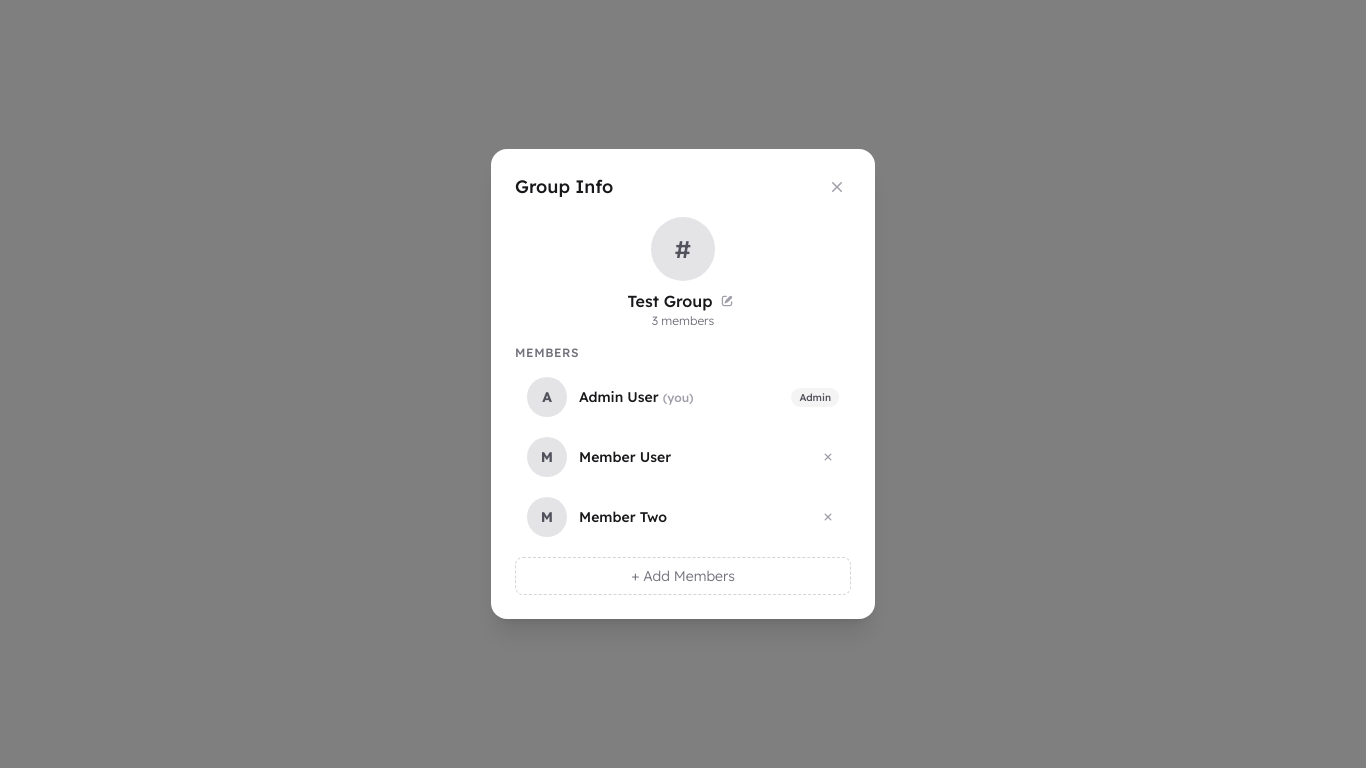
Test case: GroupChatSettings › cancels name editing
Click the button named "Edit group name" at (728, 301), box x1=716 y1=290 x2=738 y2=312
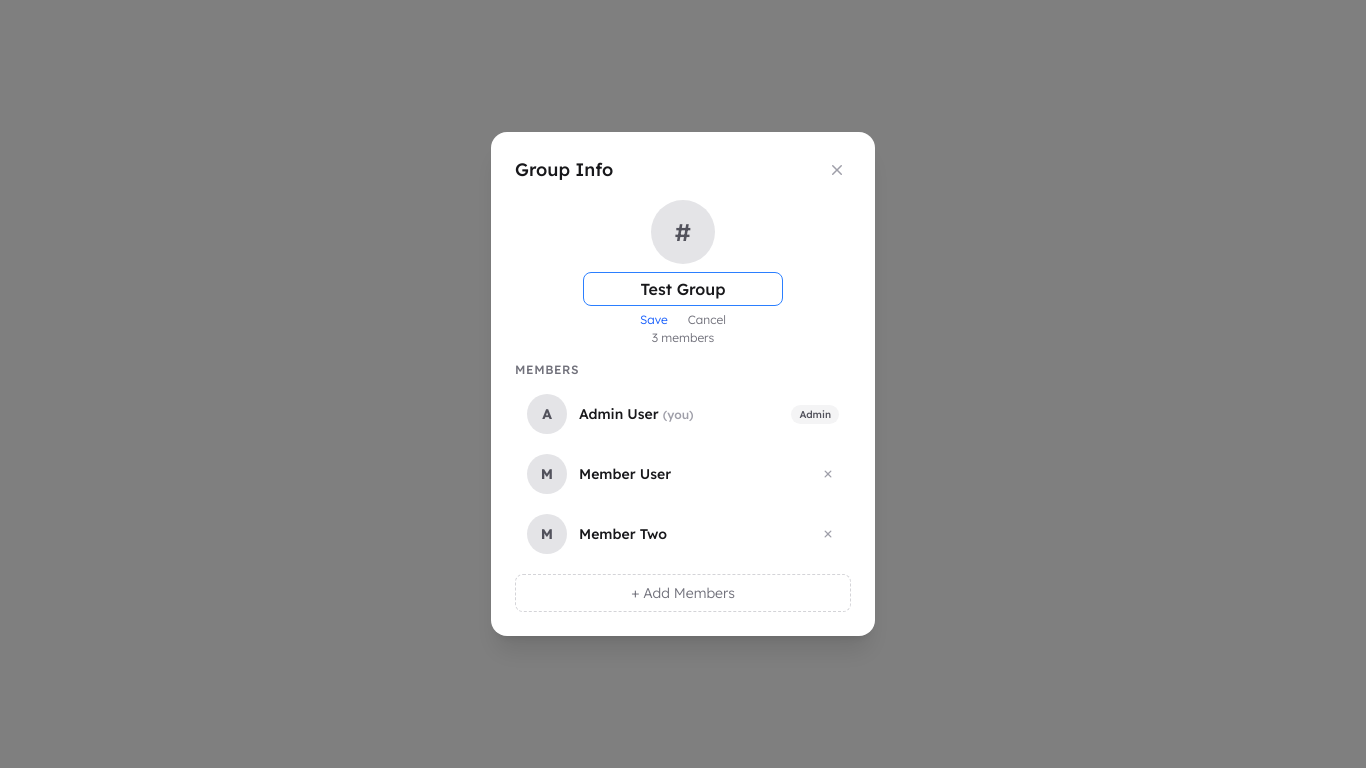
Result: the field showing "Test Group" is shown at x1=583 y1=272 x2=783 y2=306
Click the button "Cancel" at (707, 320), box x1=680 y1=310 x2=734 y2=330
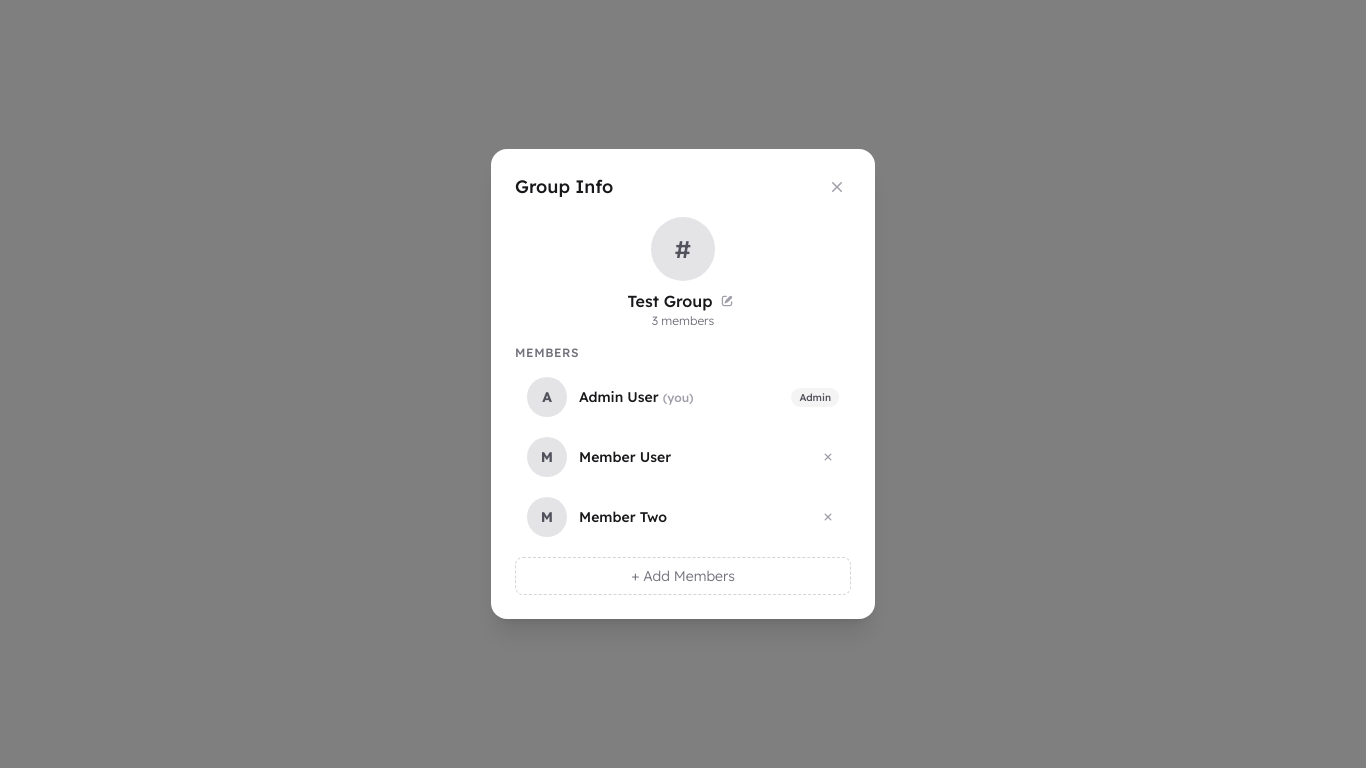
Result: the heading "Test Group" is shown at x1=628 y1=289 x2=712 y2=313
